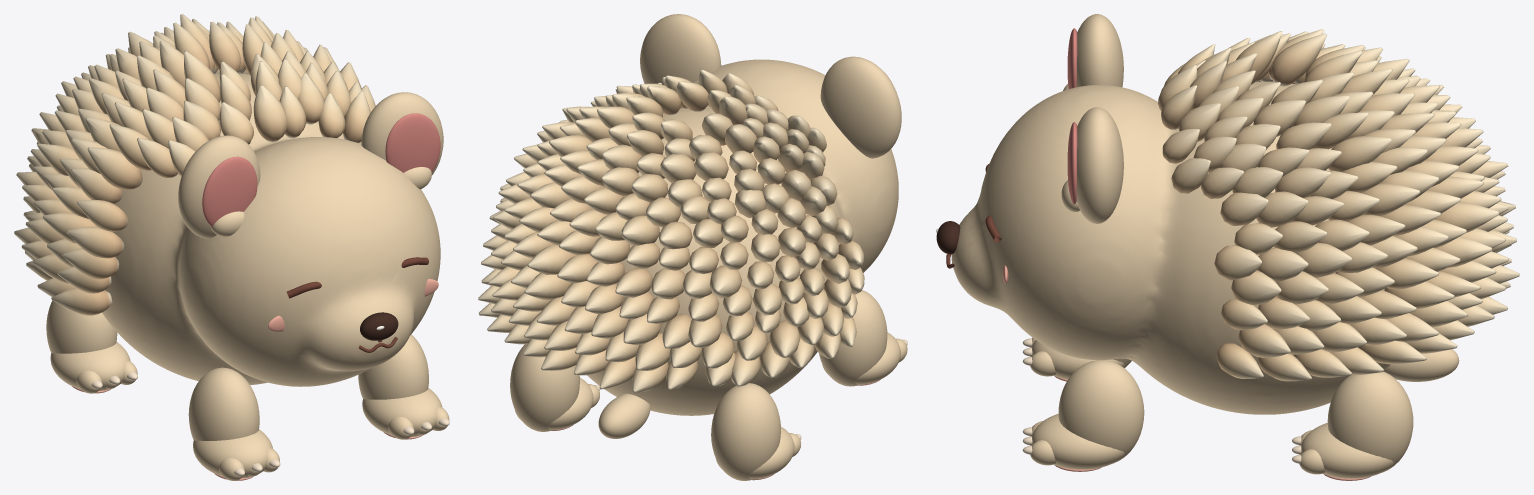
Rendered from hedgehog-stage-02.glb.
The picture shows the model from 3 angles, left to right: view 1: azimuth 30°, elevation 25°; view 2: azimuth 150°, elevation 25°; view 3: azimuth 270°, elevation 25°; orthographic projection. The views are drawn at different scales.
Parts seen in each view (by area): view 1: S02 • seamless sculpted body and face, S02 • 204 individually formed rounded quills, S02 • L front leg, S02 • L ear • outer rim, S02 • R front leg, S02 • L rear leg, S02 • L ear • recessed inner bowl, S02 • R ear • recessed inner bowl, S02 • R ear • outer rim, S02 • L rear paw, S02 • L front paw, S02 • R front paw (+2 smaller); view 2: S02 • 204 individually formed rounded quills, S02 • seamless sculpted body and face, S02 • L ear • outer rim, S02 • L rear leg, S02 • R ear • outer rim, S02 • R rear leg, S02 • L front leg, S02 • small tail, S02 • R rear paw, S02 • L rear paw, S02 • L front paw; view 3: S02 • 204 individually formed rounded quills, S02 • seamless sculpted body and face, S02 • R front leg, S02 • R rear leg, S02 • R ear • outer rim, S02 • L ear • outer rim, S02 • R rear paw, S02 • R front paw, S02 • small tail, S02 • L front paw, S02 • R ear • recessed inner bowl, S02 • heartlike button nose.
Boxes of the visible parts, x1,y1,x2,y2 form: S02 • seamless sculpted body and face: [102, 73, 440, 386]; S02 • 204 individually formed rounded quills: [14, 14, 375, 315]; S02 • L front leg: [188, 367, 259, 440]; S02 • L ear • outer rim: [178, 135, 260, 238]; S02 • R front leg: [358, 334, 428, 399]; S02 • L rear leg: [46, 301, 117, 353]; S02 • L ear • recessed inner bowl: [202, 156, 257, 226]; S02 • R ear • recessed inner bowl: [385, 113, 440, 172]; S02 • R ear • outer rim: [361, 92, 443, 174]; S02 • L rear paw: [50, 342, 130, 391]; S02 • L front paw: [193, 429, 272, 478]; S02 • R front paw: [362, 388, 442, 437]; S02 • 204 individually formed rounded quills: [478, 70, 864, 392]; S02 • seamless sculpted body and face: [587, 59, 898, 415]; S02 • L ear • outer rim: [820, 56, 901, 158]; S02 • L rear leg: [711, 383, 780, 480]; S02 • R ear • outer rim: [640, 14, 721, 83]; S02 • R rear leg: [510, 344, 579, 431]; S02 • L front leg: [819, 290, 887, 386]; S02 • small tail: [598, 393, 650, 438]; S02 • R rear paw: [515, 377, 593, 430]; S02 • L rear paw: [716, 427, 794, 479]; S02 • L front paw: [822, 332, 900, 384]; S02 • 204 individually formed rounded quills: [1158, 29, 1519, 381]; S02 • seamless sculpted body and face: [951, 81, 1390, 414]; S02 • R front leg: [1058, 360, 1144, 463]; S02 • R rear leg: [1327, 371, 1413, 472]; S02 • R ear • outer rim: [1076, 107, 1123, 223]; S02 • L ear • outer rim: [1076, 14, 1123, 87]; S02 • R rear paw: [1301, 423, 1394, 478]; S02 • R front paw: [1032, 413, 1125, 469]; S02 • small tail: [1383, 349, 1459, 381]; S02 • L front paw: [1032, 340, 1125, 379]; S02 • R ear • recessed inner bowl: [1067, 122, 1077, 204]; S02 • heartlike button nose: [936, 221, 960, 254].
Bounding box in the file's own units: 1.18 × 1.1 × 1.58.
